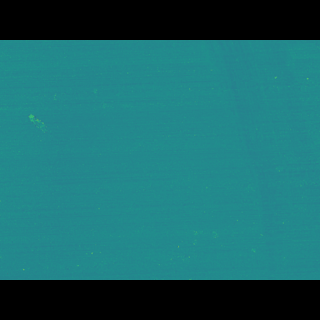Loch: (204, 68, 320, 228)
